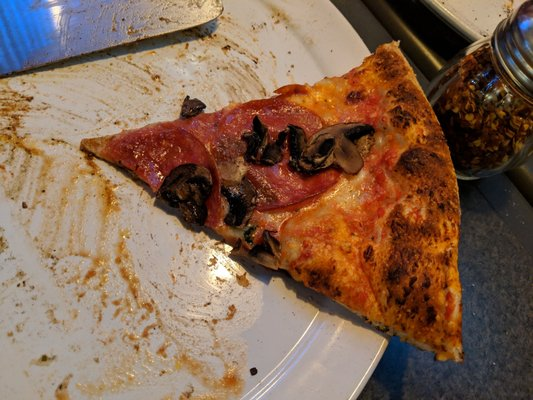sandwich: (49, 44, 464, 365)
